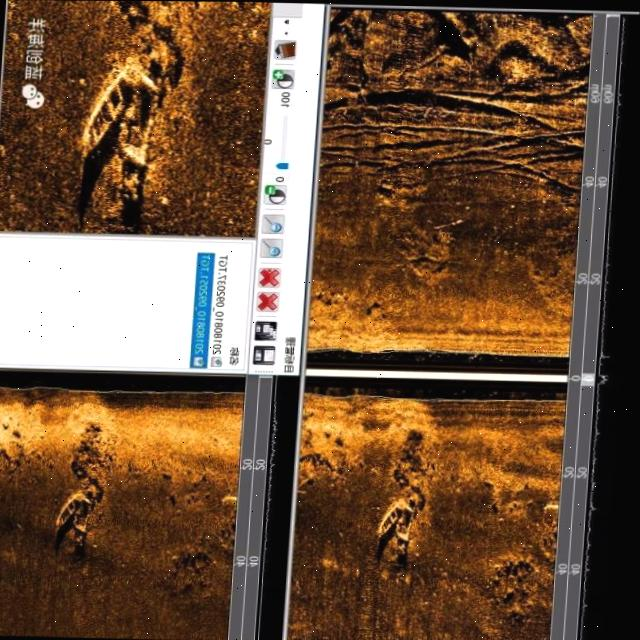shipwreck: (69, 64, 151, 159), (55, 489, 95, 531), (381, 497, 418, 537)
